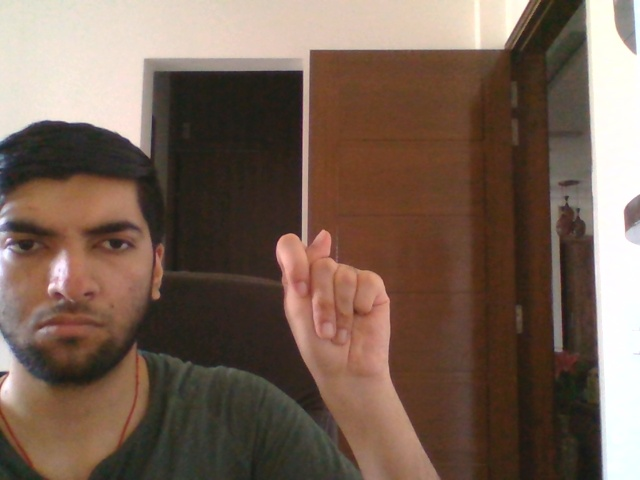LetterT: (275, 228, 395, 383)
